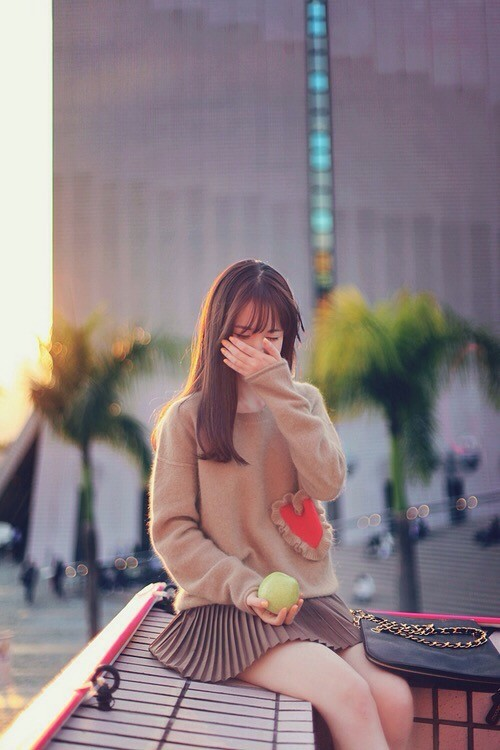face: (227, 296, 284, 384)
